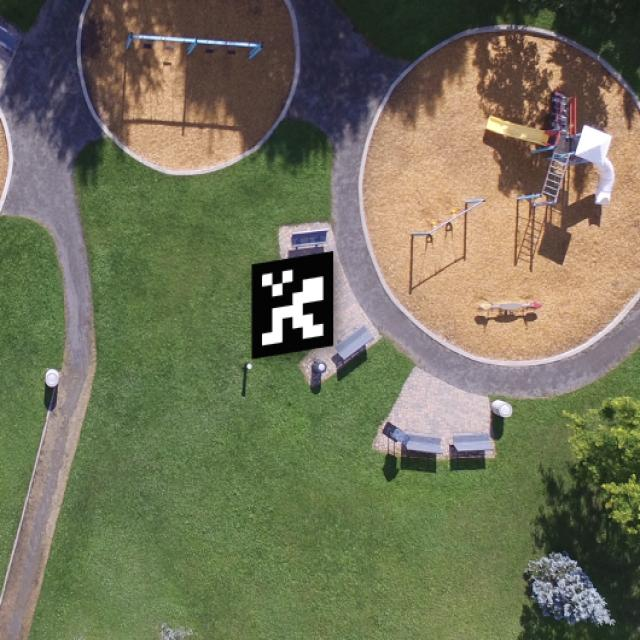marker: (240, 250, 341, 361)
